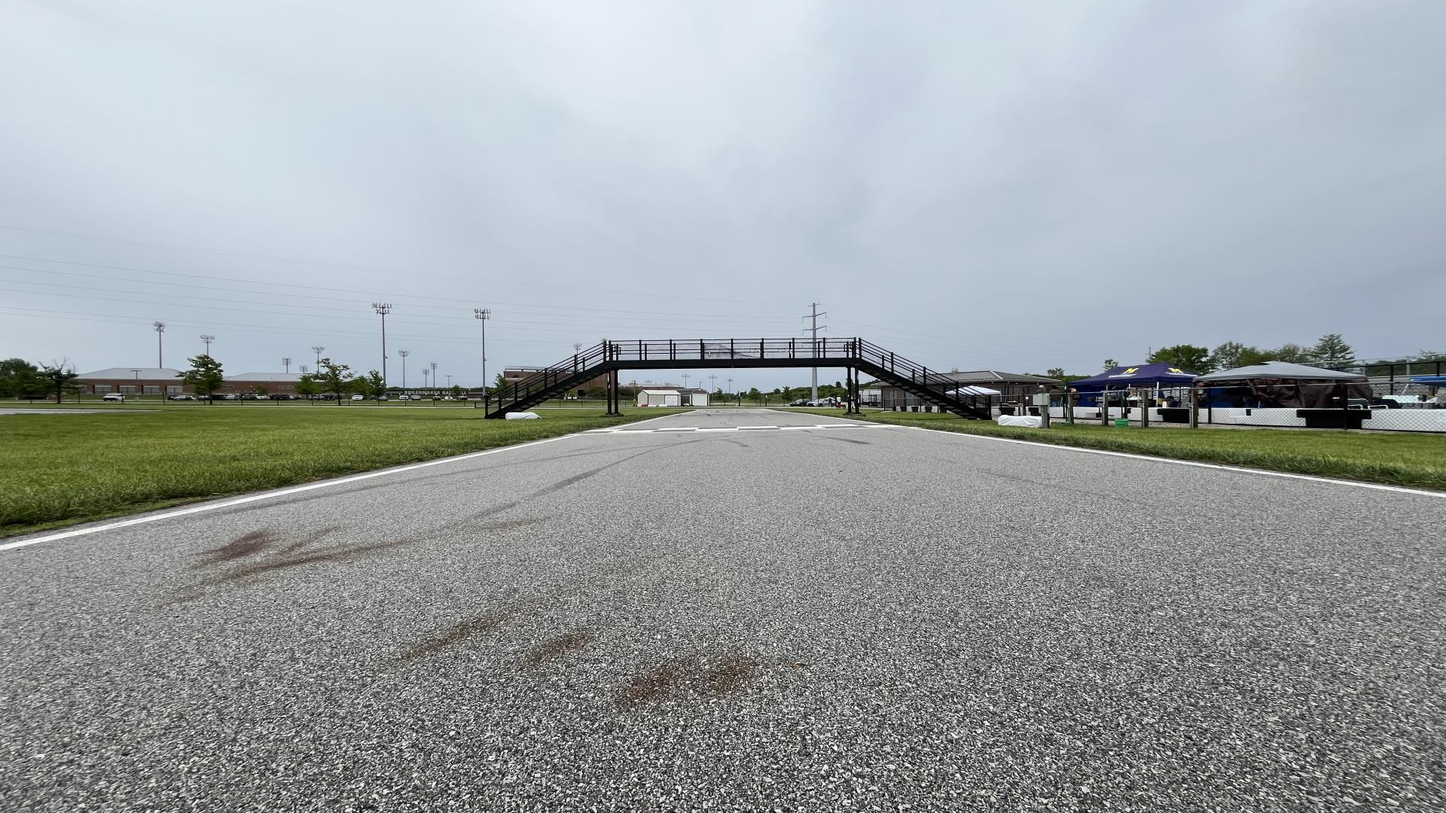white-line: (166, 476, 362, 519), (0, 510, 170, 551), (435, 444, 526, 464), (358, 461, 438, 480), (1248, 470, 1341, 483), (1165, 460, 1258, 471), (1335, 481, 1411, 492), (522, 434, 576, 447), (1033, 443, 1104, 452), (1103, 452, 1168, 460), (1406, 489, 1445, 497), (987, 437, 1033, 443), (944, 432, 988, 438), (606, 422, 640, 429), (801, 413, 840, 419), (839, 418, 877, 424), (669, 410, 700, 417), (640, 416, 670, 423), (763, 409, 801, 413), (911, 428, 946, 432), (668, 409, 699, 411), (876, 423, 889, 425)
